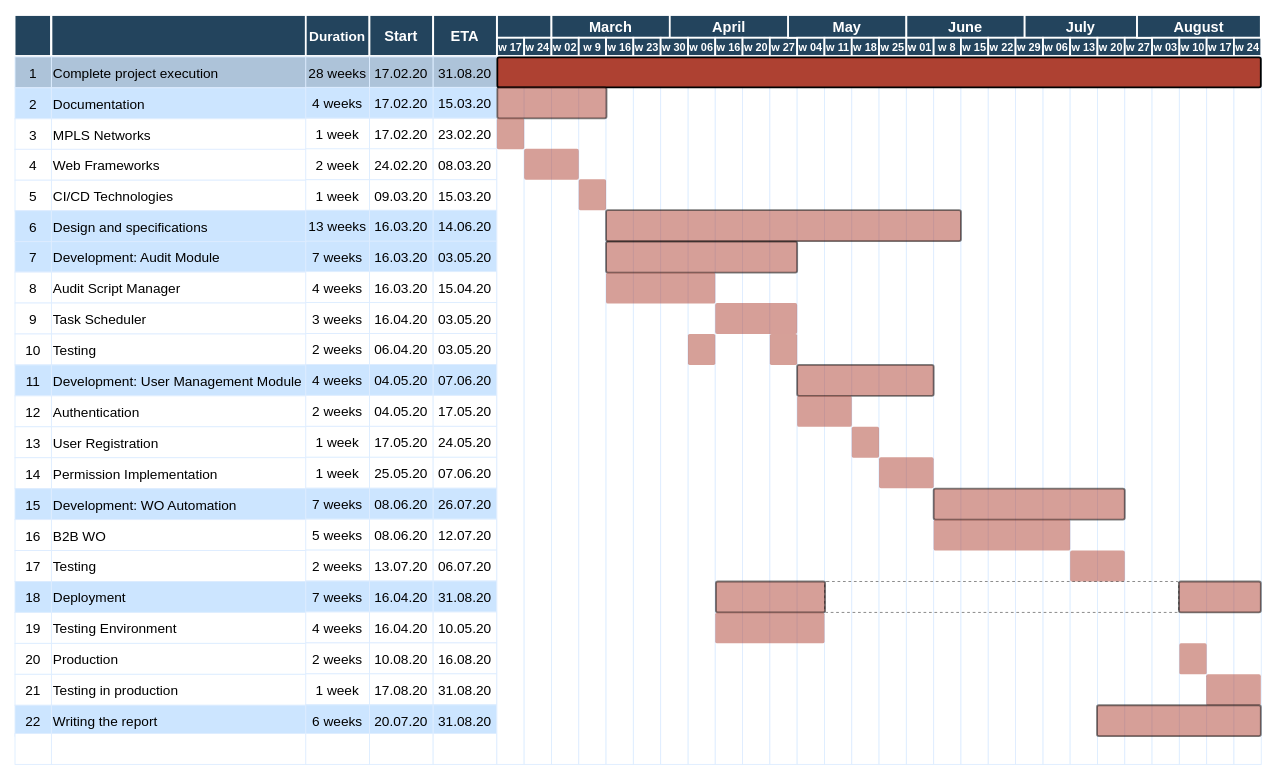
Some shapes in this 1276 by 779 pixel diagram are drawn without their labels. The centre of each missing label's shape, as x and y in pixels:
February: (523,26)
Task Name: (178,35)
